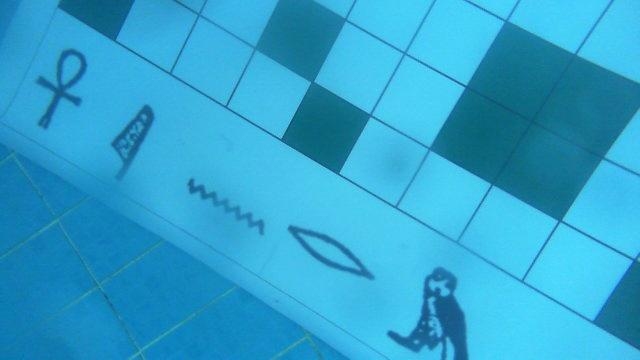Ankh: (33, 46, 91, 132)
Mouth: (284, 216, 377, 285)
Owl: (385, 259, 474, 360)
Reed: (107, 105, 161, 185)
Water: (179, 174, 268, 236)
